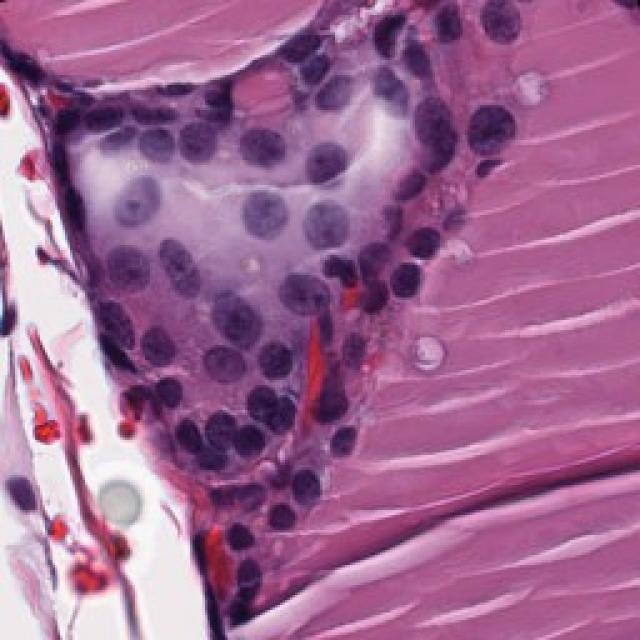normal: (266, 266, 349, 336), (292, 128, 370, 195), (404, 74, 464, 153), (303, 410, 379, 472), (266, 455, 334, 524), (76, 287, 136, 364), (138, 49, 199, 123), (285, 377, 355, 435), (379, 239, 426, 322), (388, 151, 449, 213), (213, 420, 276, 480), (139, 355, 191, 417), (399, 218, 445, 268)
